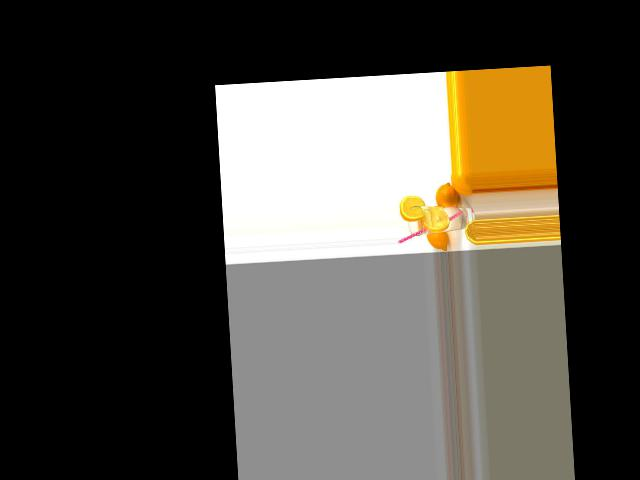lemon: (426, 225, 451, 251)
